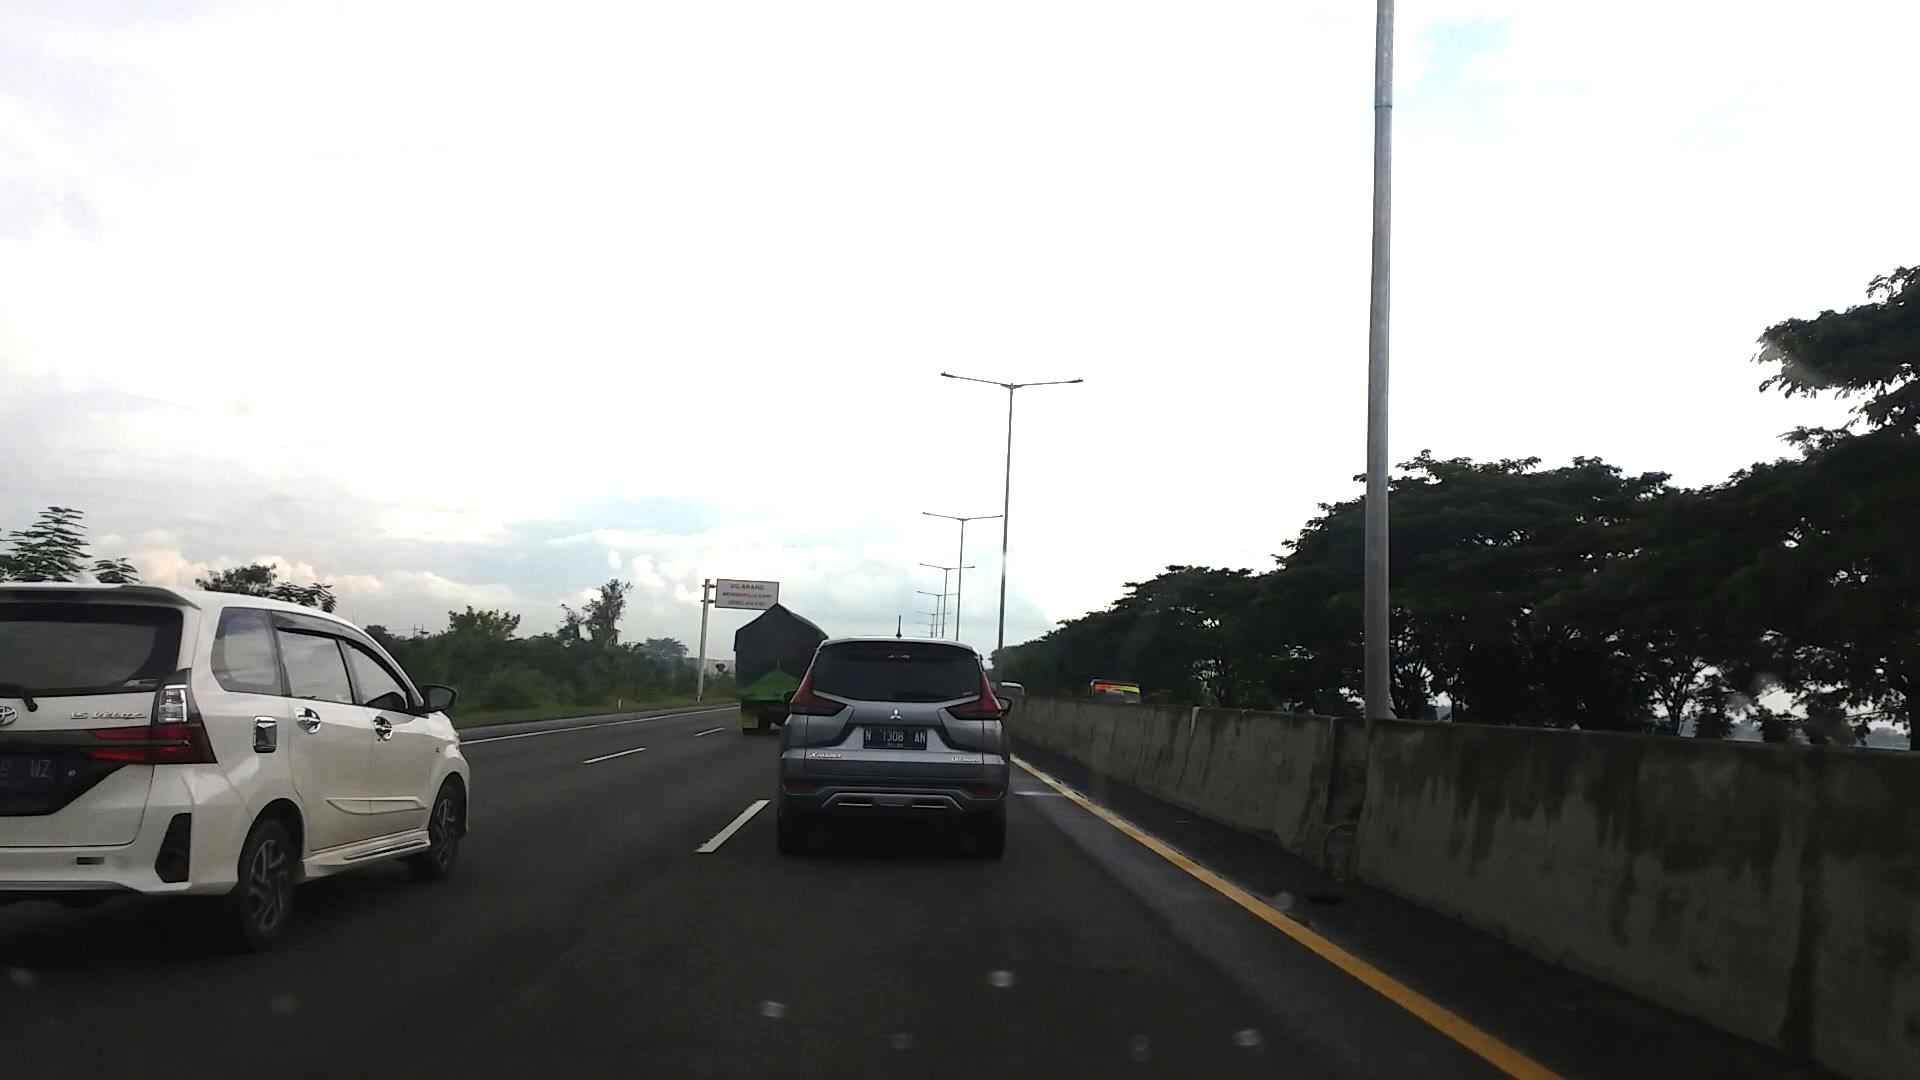plate_positive: (864, 727, 927, 752)
